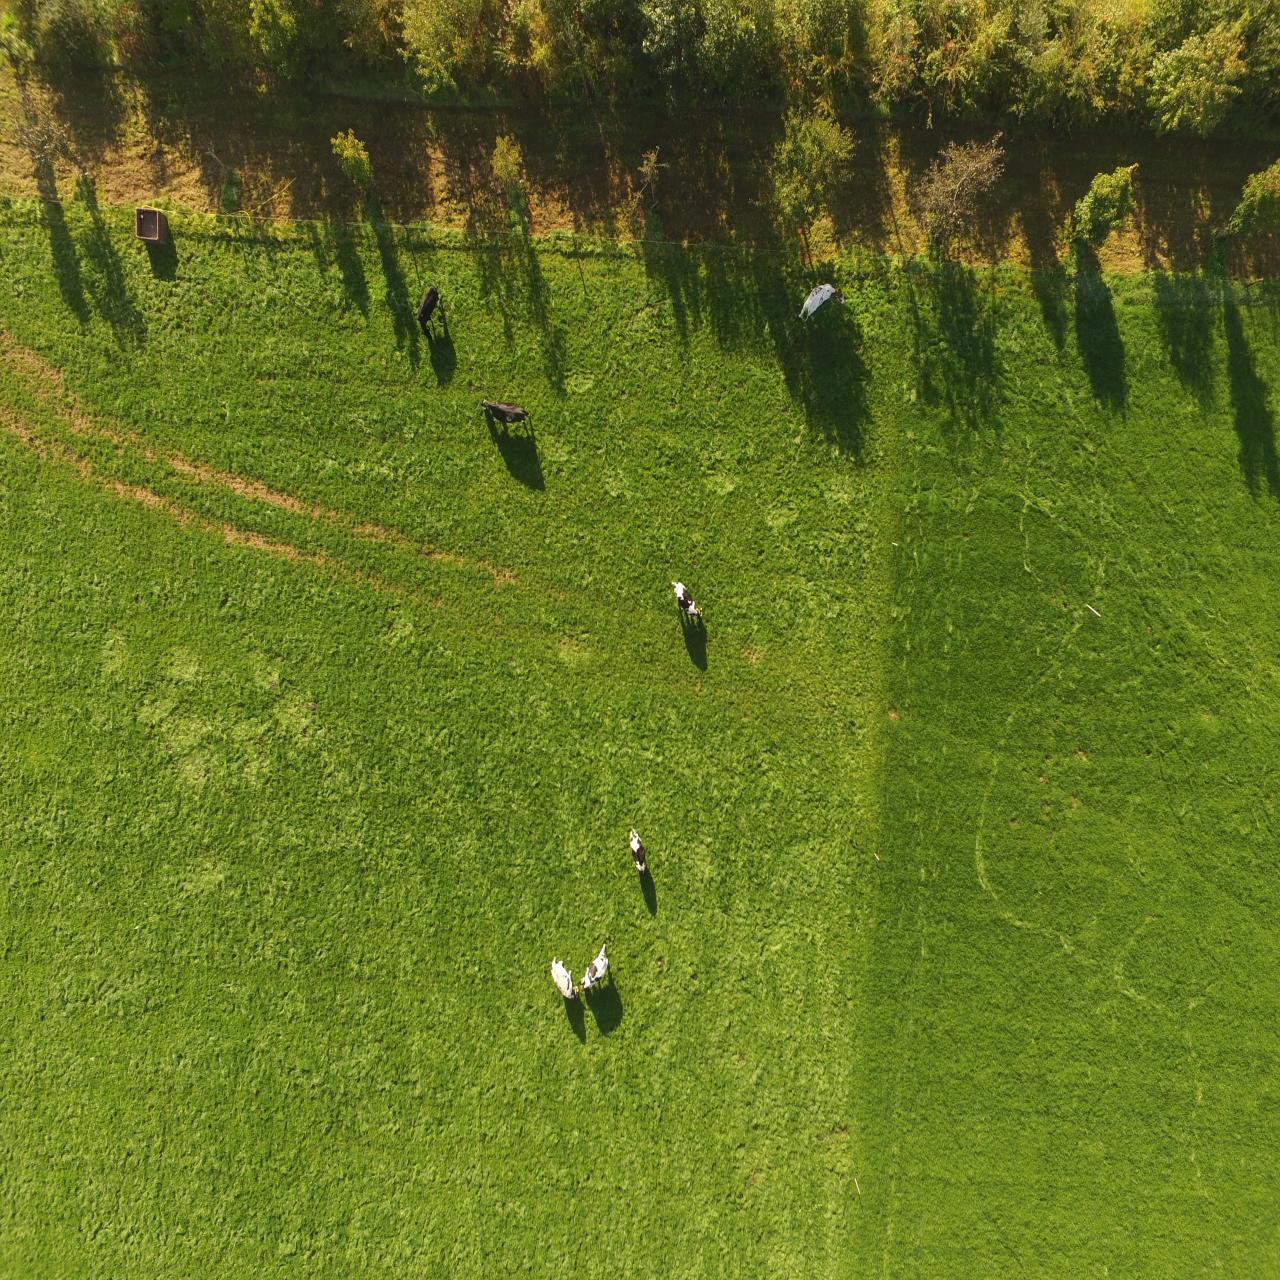cow: (667, 580, 712, 626), (482, 394, 532, 433), (414, 282, 445, 342), (795, 284, 844, 320), (549, 955, 581, 1002), (581, 941, 610, 993), (626, 826, 647, 874)
